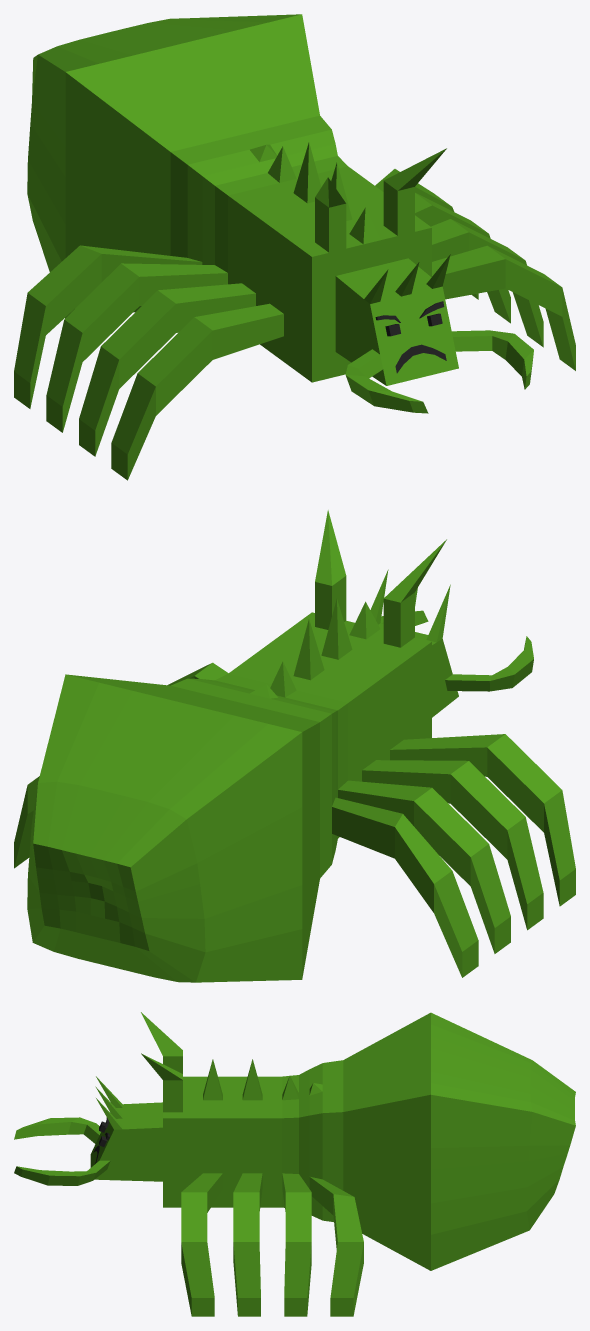
Rendered from Model_Attacker3.fbx.
3 renders of one model, top to bottom at view 1: azimuth 30°, elevation 25°; view 2: azimuth 150°, elevation 25°; view 3: azimuth 270°, elevation 25°, orthographic. The views are drawn at different scales.
Visible parts, largest first — view 1: Cube; view 2: Cube; view 3: Cube.
Part boxes in pixels (x1,y1,x2,y2): Cube: (14,14,575,480); Cube: (14,510,575,982); Cube: (14,1012,575,1316).
Bounding box in the file's own units: 744 × 460 × 1135.
